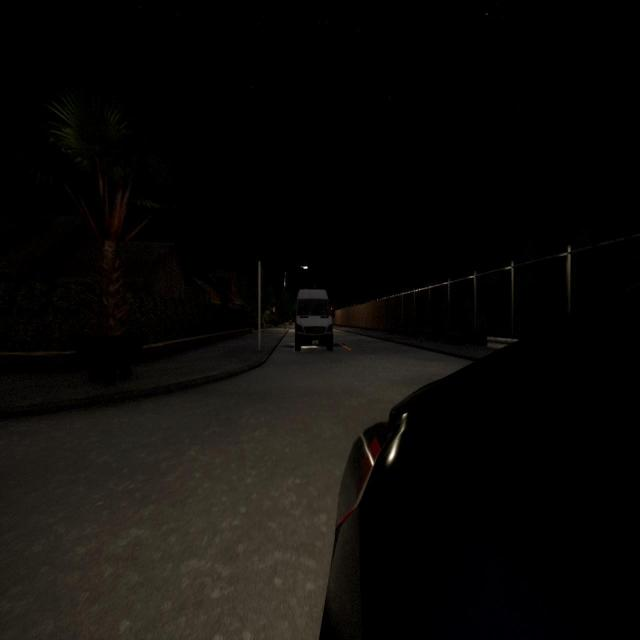Vehicle: (321, 278, 640, 639), (295, 289, 333, 352)
traffic_light: (330, 306, 332, 313)
